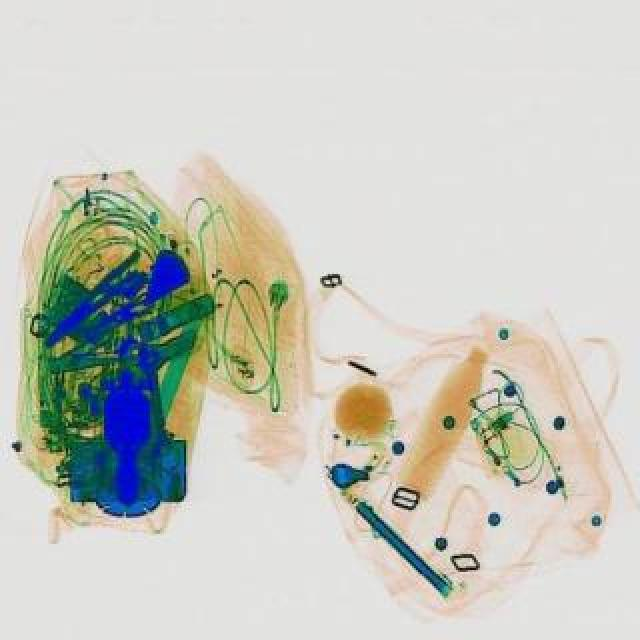wrench: (32, 248, 152, 352)
